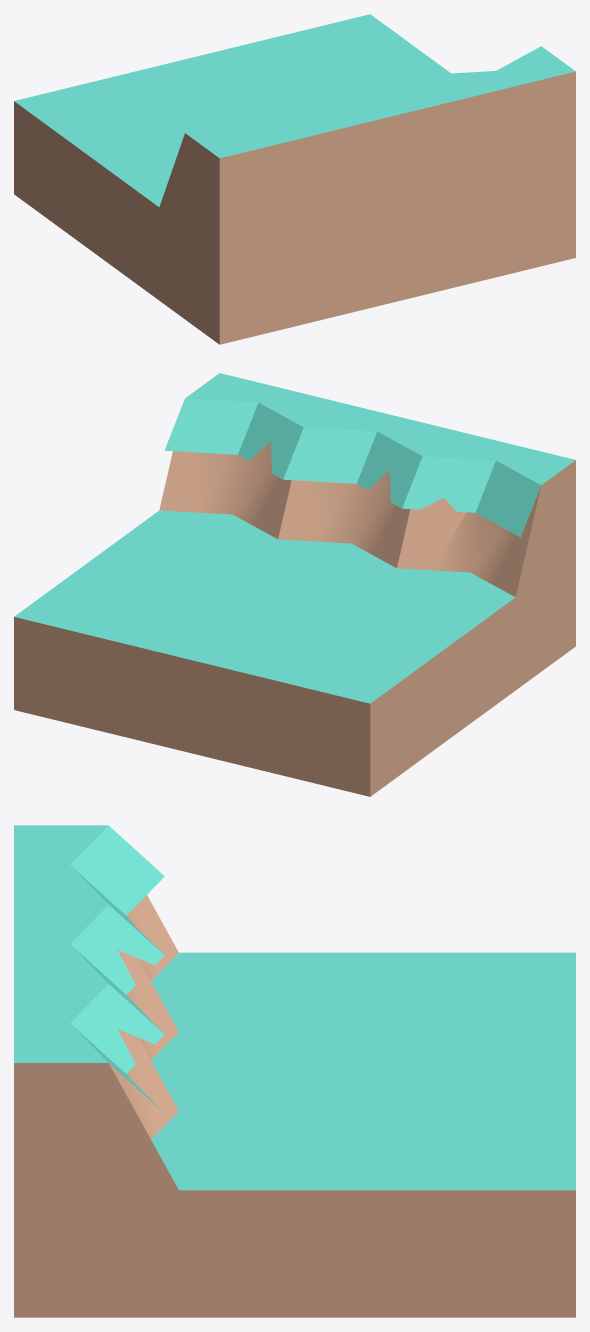
File: cliff_quarter_half_rock.glb
The picture shows the model from 3 angles, top to bottom: view 1: azimuth 30°, elevation 25°; view 2: azimuth 150°, elevation 25°; view 3: azimuth 270°, elevation 25°; orthographic projection. The views are drawn at different scales.
Visible parts, largest first — view 1: cliff_quarter_half_rock; view 2: cliff_quarter_half_rock; view 3: cliff_quarter_half_rock.
Part boxes in pixels (x1=…): cliff_quarter_half_rock: x1=14, y1=14, x2=575, y2=344; cliff_quarter_half_rock: x1=14, y1=373, x2=575, y2=796; cliff_quarter_half_rock: x1=14, y1=825, x2=575, y2=1317.
Bounding box in the file's own units: 1 × 0.5 × 1.
